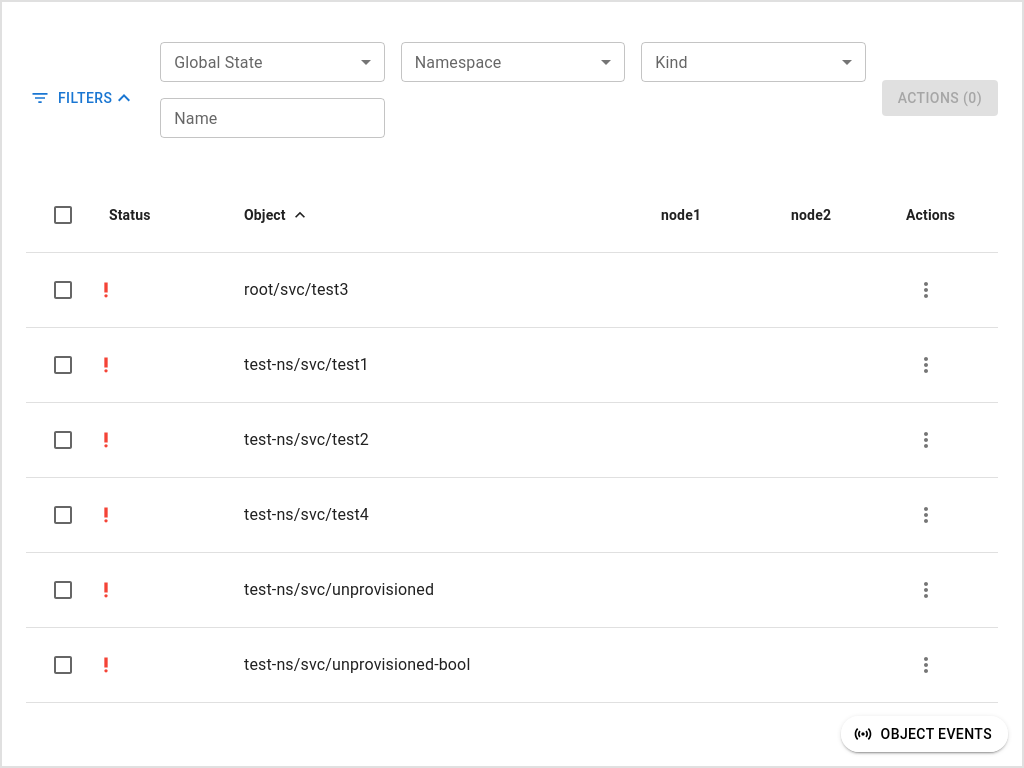
Test: Objects Component › filtering › Name filter
The image size is (1024, 768).
Expected: the dropdown named "Global State" next to "Global State" is shown, [160,42,385,82]
Step 1. Type "test1" into the field labelled "Name" → (273,118), box [160,98,385,138]
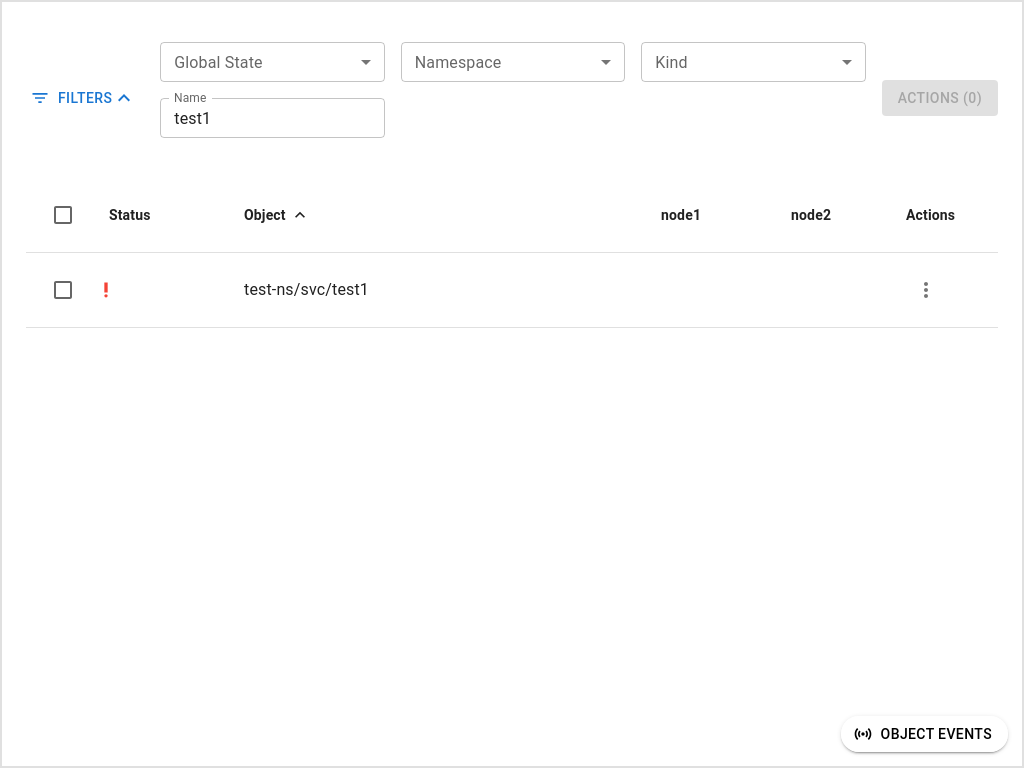
Expected: the row "test-ns/svc/test1" is shown, [26,252,998,328]
Result: the text "test-ns/svc/test2" is gone
Result: the text "root/svc/test3" is gone
